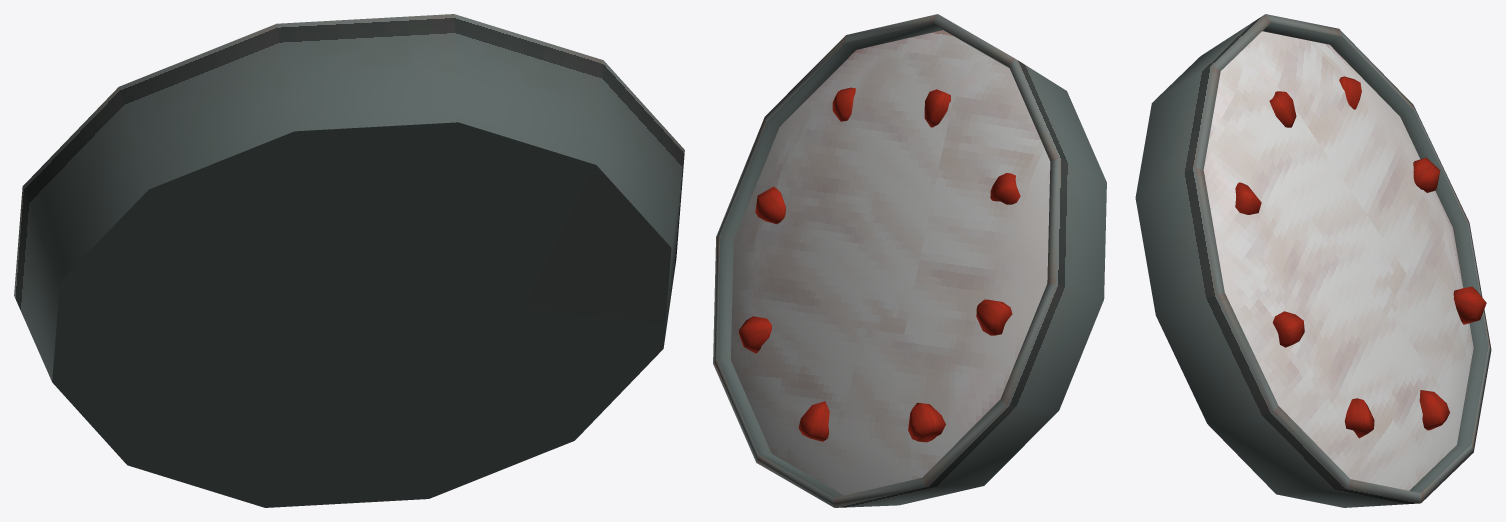
The model's file is H_CakePan_Strawberry.fbx.
3 renders of one model, left to right at view 1: azimuth 30°, elevation 25°; view 2: azimuth 150°, elevation 25°; view 3: azimuth 270°, elevation 25°, orthographic. The views are drawn at different scales.
Visible parts, largest first — view 1: Strawberry; view 2: Strawberry; view 3: Strawberry.
Part boxes in pixels (x1,y1,x2,y2): Strawberry: [14, 14, 684, 507]; Strawberry: [713, 14, 1106, 507]; Strawberry: [1135, 14, 1491, 507].
Size of the model in its own units: 46.37 by 43.75 by 33.53.
